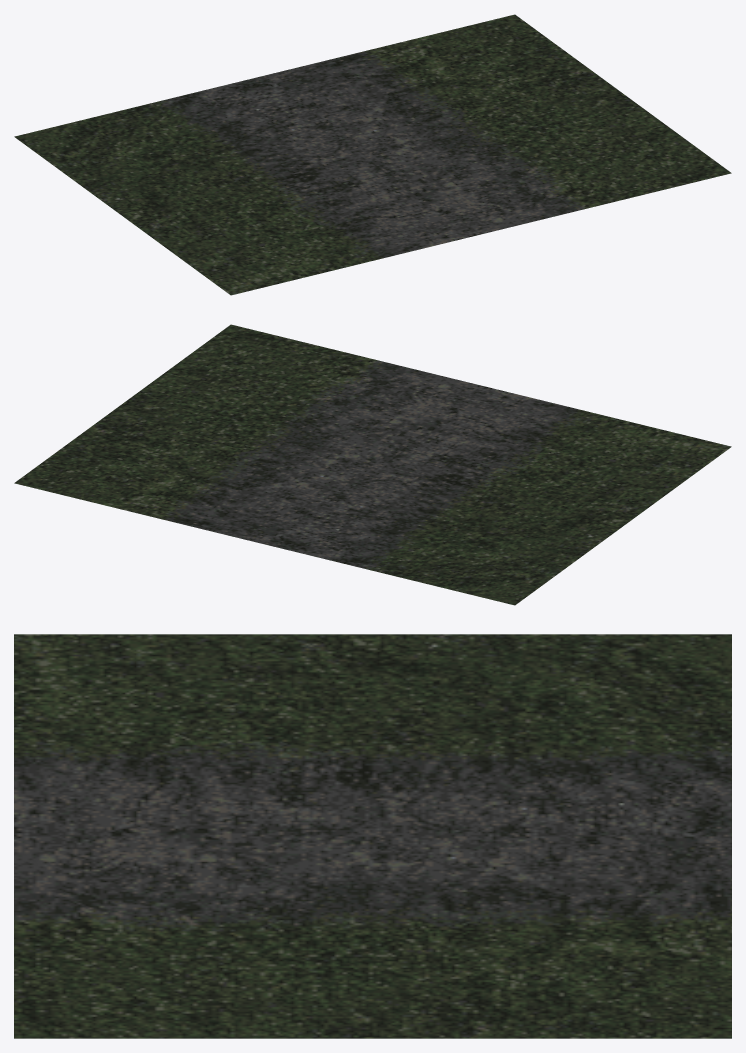
File: SM_EC_Path_Mud_04.fbx
The picture shows the model from 3 angles, top to bottom: view 1: azimuth 30°, elevation 25°; view 2: azimuth 150°, elevation 25°; view 3: azimuth 270°, elevation 25°; orthographic projection. The views are drawn at different scales.
Visible parts, largest first — view 1: SM_EC_Path_Mud_04; view 2: SM_EC_Path_Mud_04; view 3: SM_EC_Path_Mud_04.
Part boxes in pixels (<box>): SM_EC_Path_Mud_04: <box>14,14,731,295</box>; SM_EC_Path_Mud_04: <box>14,324,731,605</box>; SM_EC_Path_Mud_04: <box>14,634,731,1038</box>.
Size of the model in its own units: 4 by 3 by 0.
